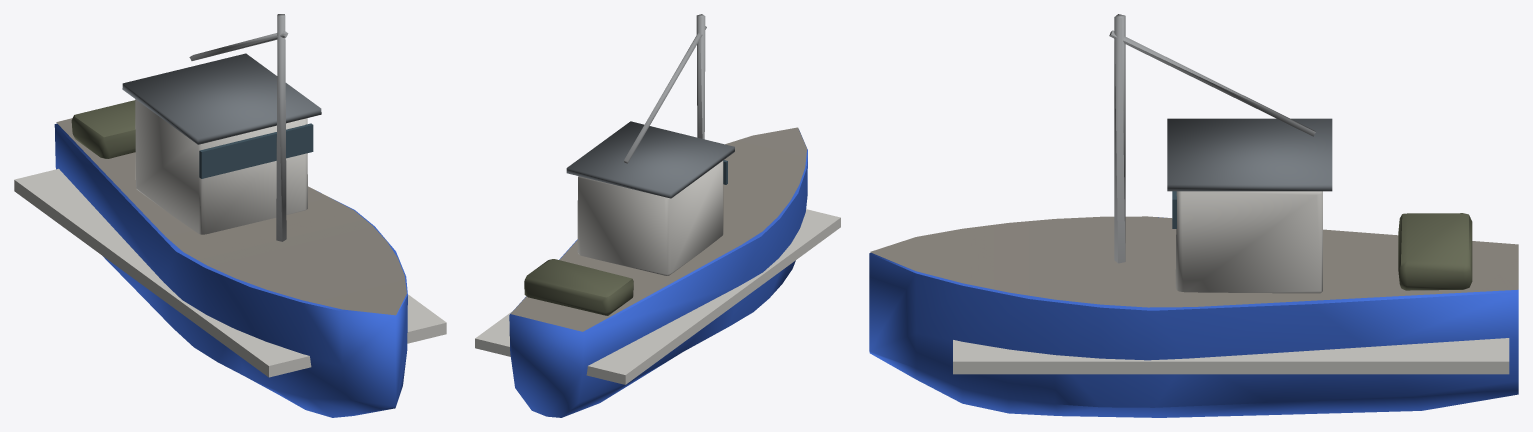
Rendered from fishing_boat_lod1.glb.
The picture shows the model from 3 angles, left to right: view 1: azimuth 30°, elevation 25°; view 2: azimuth 150°, elevation 25°; view 3: azimuth 270°, elevation 25°; orthographic projection. The views are drawn at different scales.
Parts seen in each view (by area): view 1: body; view 2: body; view 3: body.
Part boxes in pixels (x1,y1,x2,y2): body: [14, 14, 446, 417]; body: [475, 14, 840, 417]; body: [869, 14, 1518, 417].
Bounding box in the file's own units: 2.42 × 4.6 × 7.
